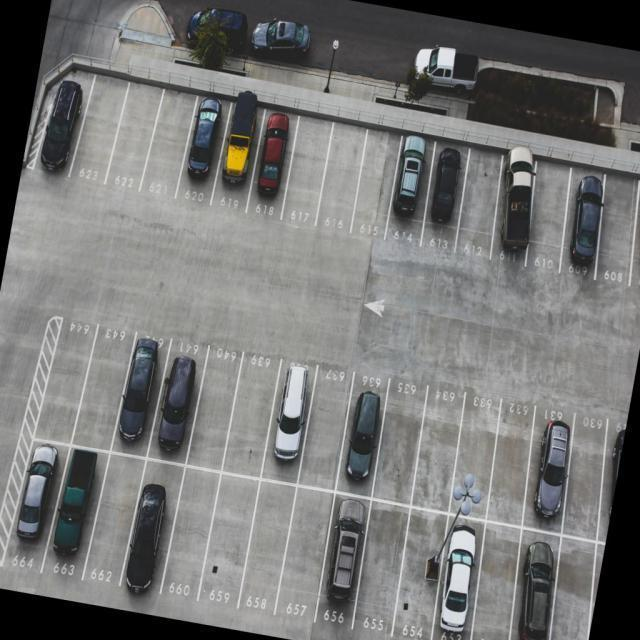space-empty: (83, 450, 147, 586), (162, 466, 222, 599), (200, 476, 259, 605), (278, 488, 337, 617), (555, 410, 613, 541), (351, 508, 411, 631), (240, 480, 296, 610), (224, 353, 281, 478), (372, 379, 427, 507), (485, 400, 538, 532), (412, 385, 466, 510), (72, 68, 127, 189), (39, 322, 95, 440), (466, 532, 525, 640), (299, 371, 352, 488), (77, 329, 132, 441), (188, 351, 241, 466), (281, 114, 333, 230), (451, 395, 501, 515), (544, 540, 603, 640), (313, 123, 368, 228), (349, 129, 403, 234), (523, 166, 574, 274), (143, 93, 194, 194), (109, 87, 159, 186), (456, 154, 501, 259), (597, 180, 640, 285)
space-occupied: (393, 515, 453, 640), (50, 448, 107, 578), (429, 520, 490, 640), (7, 440, 65, 563), (501, 537, 569, 640), (127, 462, 182, 588), (37, 64, 93, 185), (243, 105, 299, 224), (261, 361, 316, 482), (520, 407, 571, 537), (112, 337, 167, 455), (323, 494, 373, 623), (152, 340, 208, 454), (340, 378, 390, 499), (212, 100, 263, 211), (486, 153, 538, 259), (178, 100, 228, 202), (423, 139, 473, 239), (561, 172, 608, 277), (391, 134, 434, 234), (598, 422, 627, 540), (625, 185, 640, 295)
